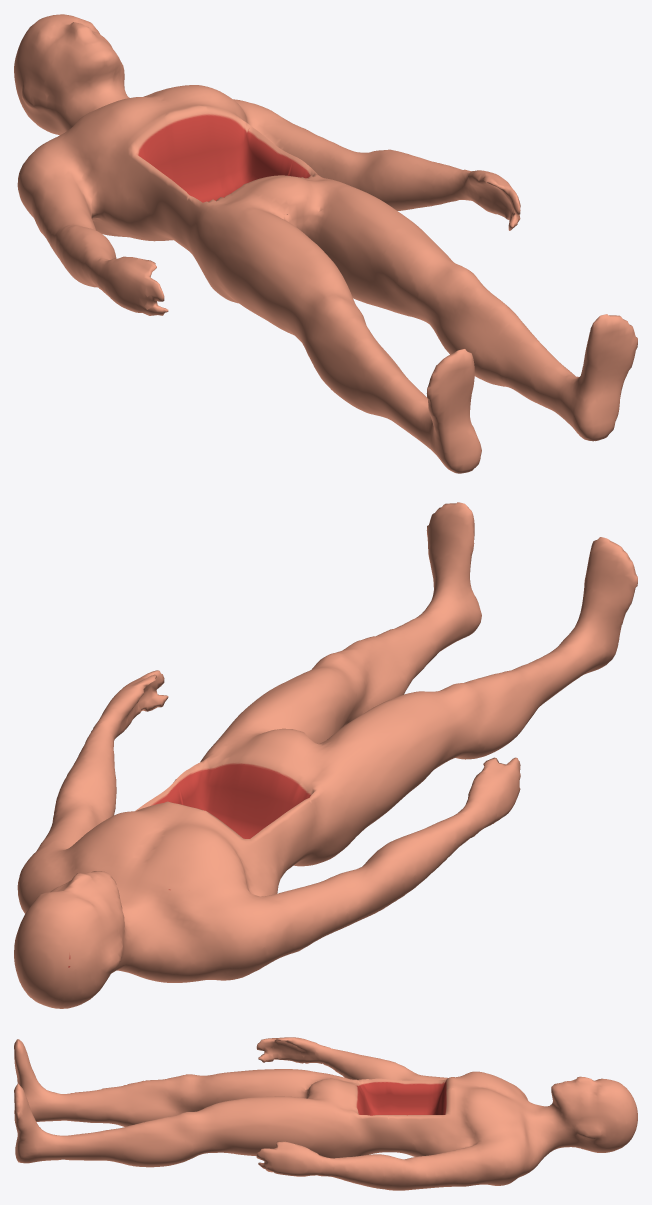
Rendered from Corpo.fbx.
3 renders of one model, top to bottom at view 1: azimuth 30°, elevation 25°; view 2: azimuth 150°, elevation 25°; view 3: azimuth 270°, elevation 25°, orthographic. The views are drawn at different scales.
Parts seen in each view (by area): view 1: Male.001; view 2: Male.001; view 3: Male.001.
Part boxes in pixels (bbox=[...]): Male.001: bbox=[14, 14, 637, 473]; Male.001: bbox=[14, 502, 637, 1008]; Male.001: bbox=[14, 1037, 637, 1190].
Size of the model in its own units: 319 by 128 by 702.
